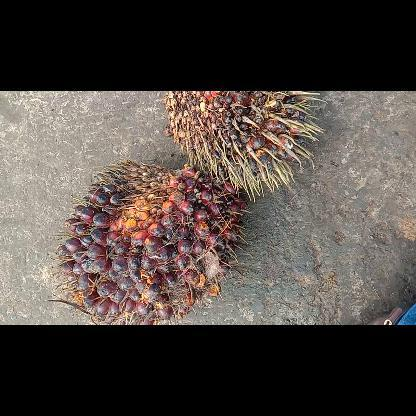Kurang masak: (52, 158, 252, 324)
TBS abnormal: (161, 91, 327, 201)
